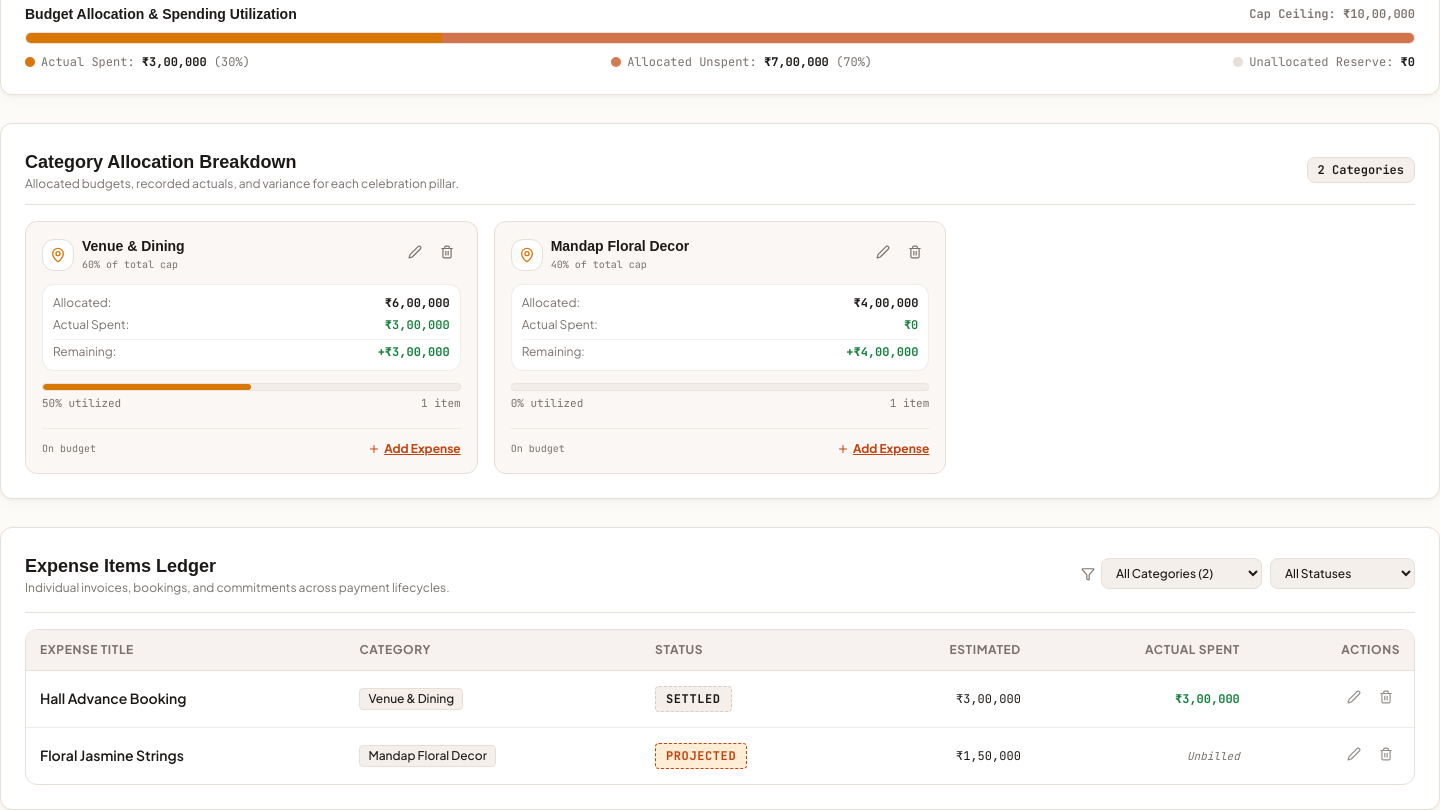
BudgetLedgerTab Component › expires the undo toast when dismissed
The width and height of the screenshot is (1440, 810).
(page scrolled)
Click delete on exp-2
Click the button named "Delete Floral Jasmine Strings".
click(1386, 754)  # box left=1372, top=740, right=1400, bottom=768
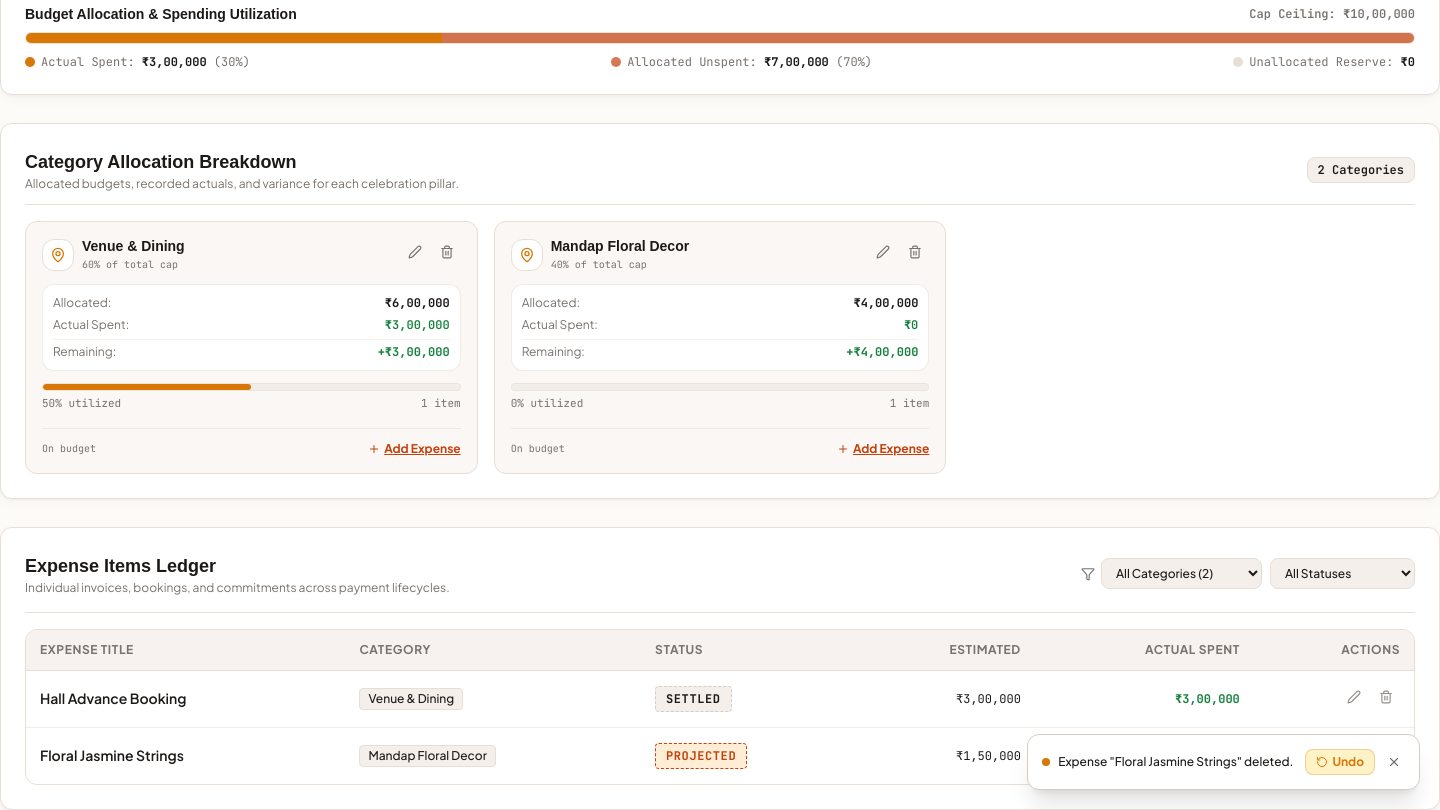
Result: the text "Expense \"Floral Jasmine Strings\" deleted." is shown at left=1058, top=754, right=1293, bottom=770
Click dismiss (X)
Click the button named "Dismiss notification".
click(1394, 762)  # box left=1383, top=751, right=1405, bottom=773
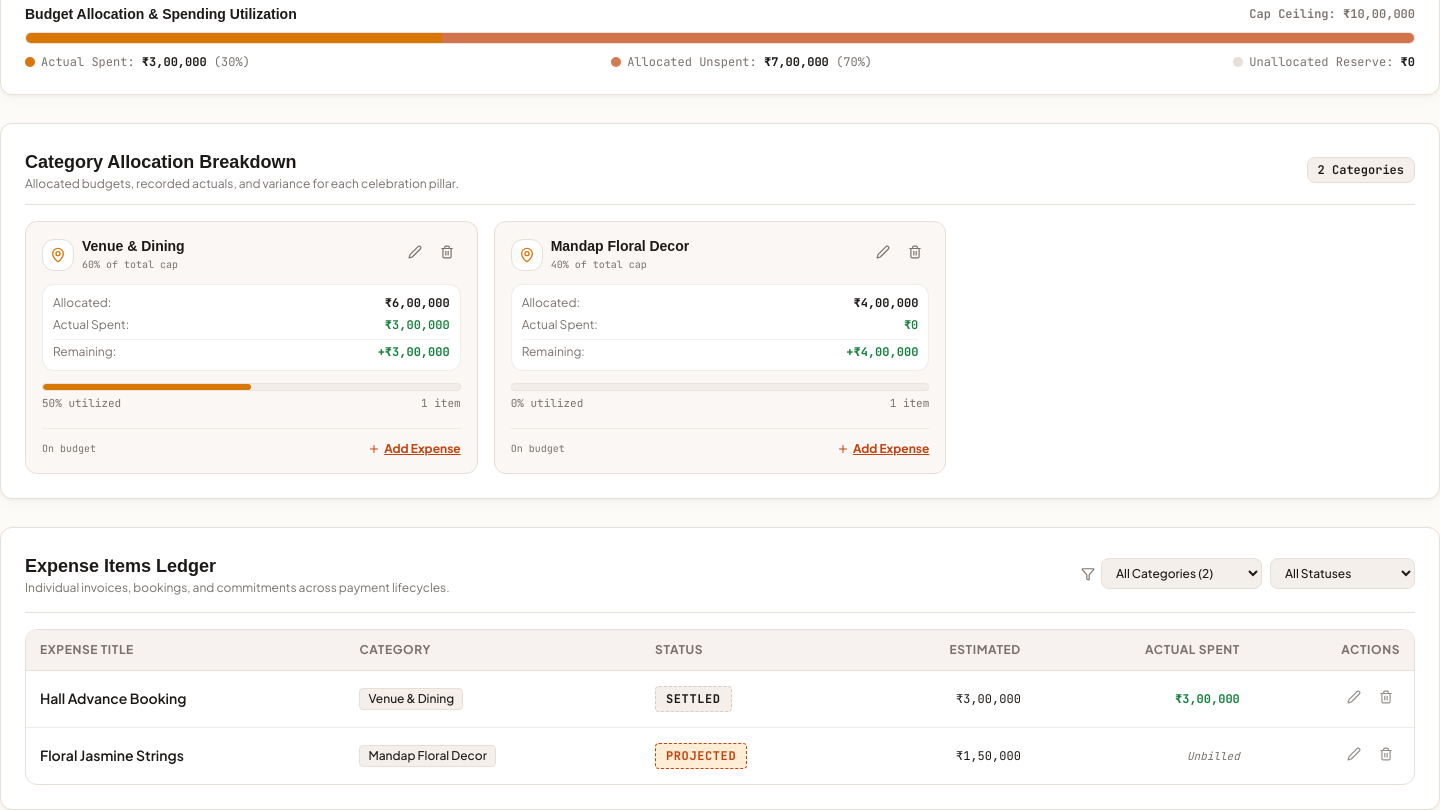
Result: the text "Expense \"Floral Jasmine Strings\" deleted" is gone
